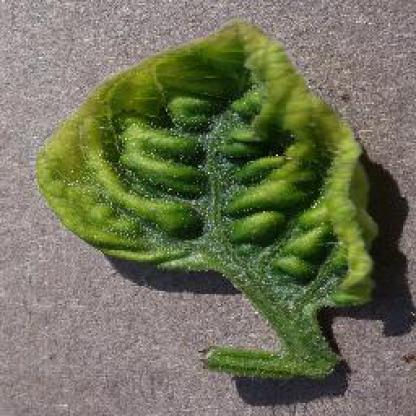bad leaf: (37, 30, 393, 389)
